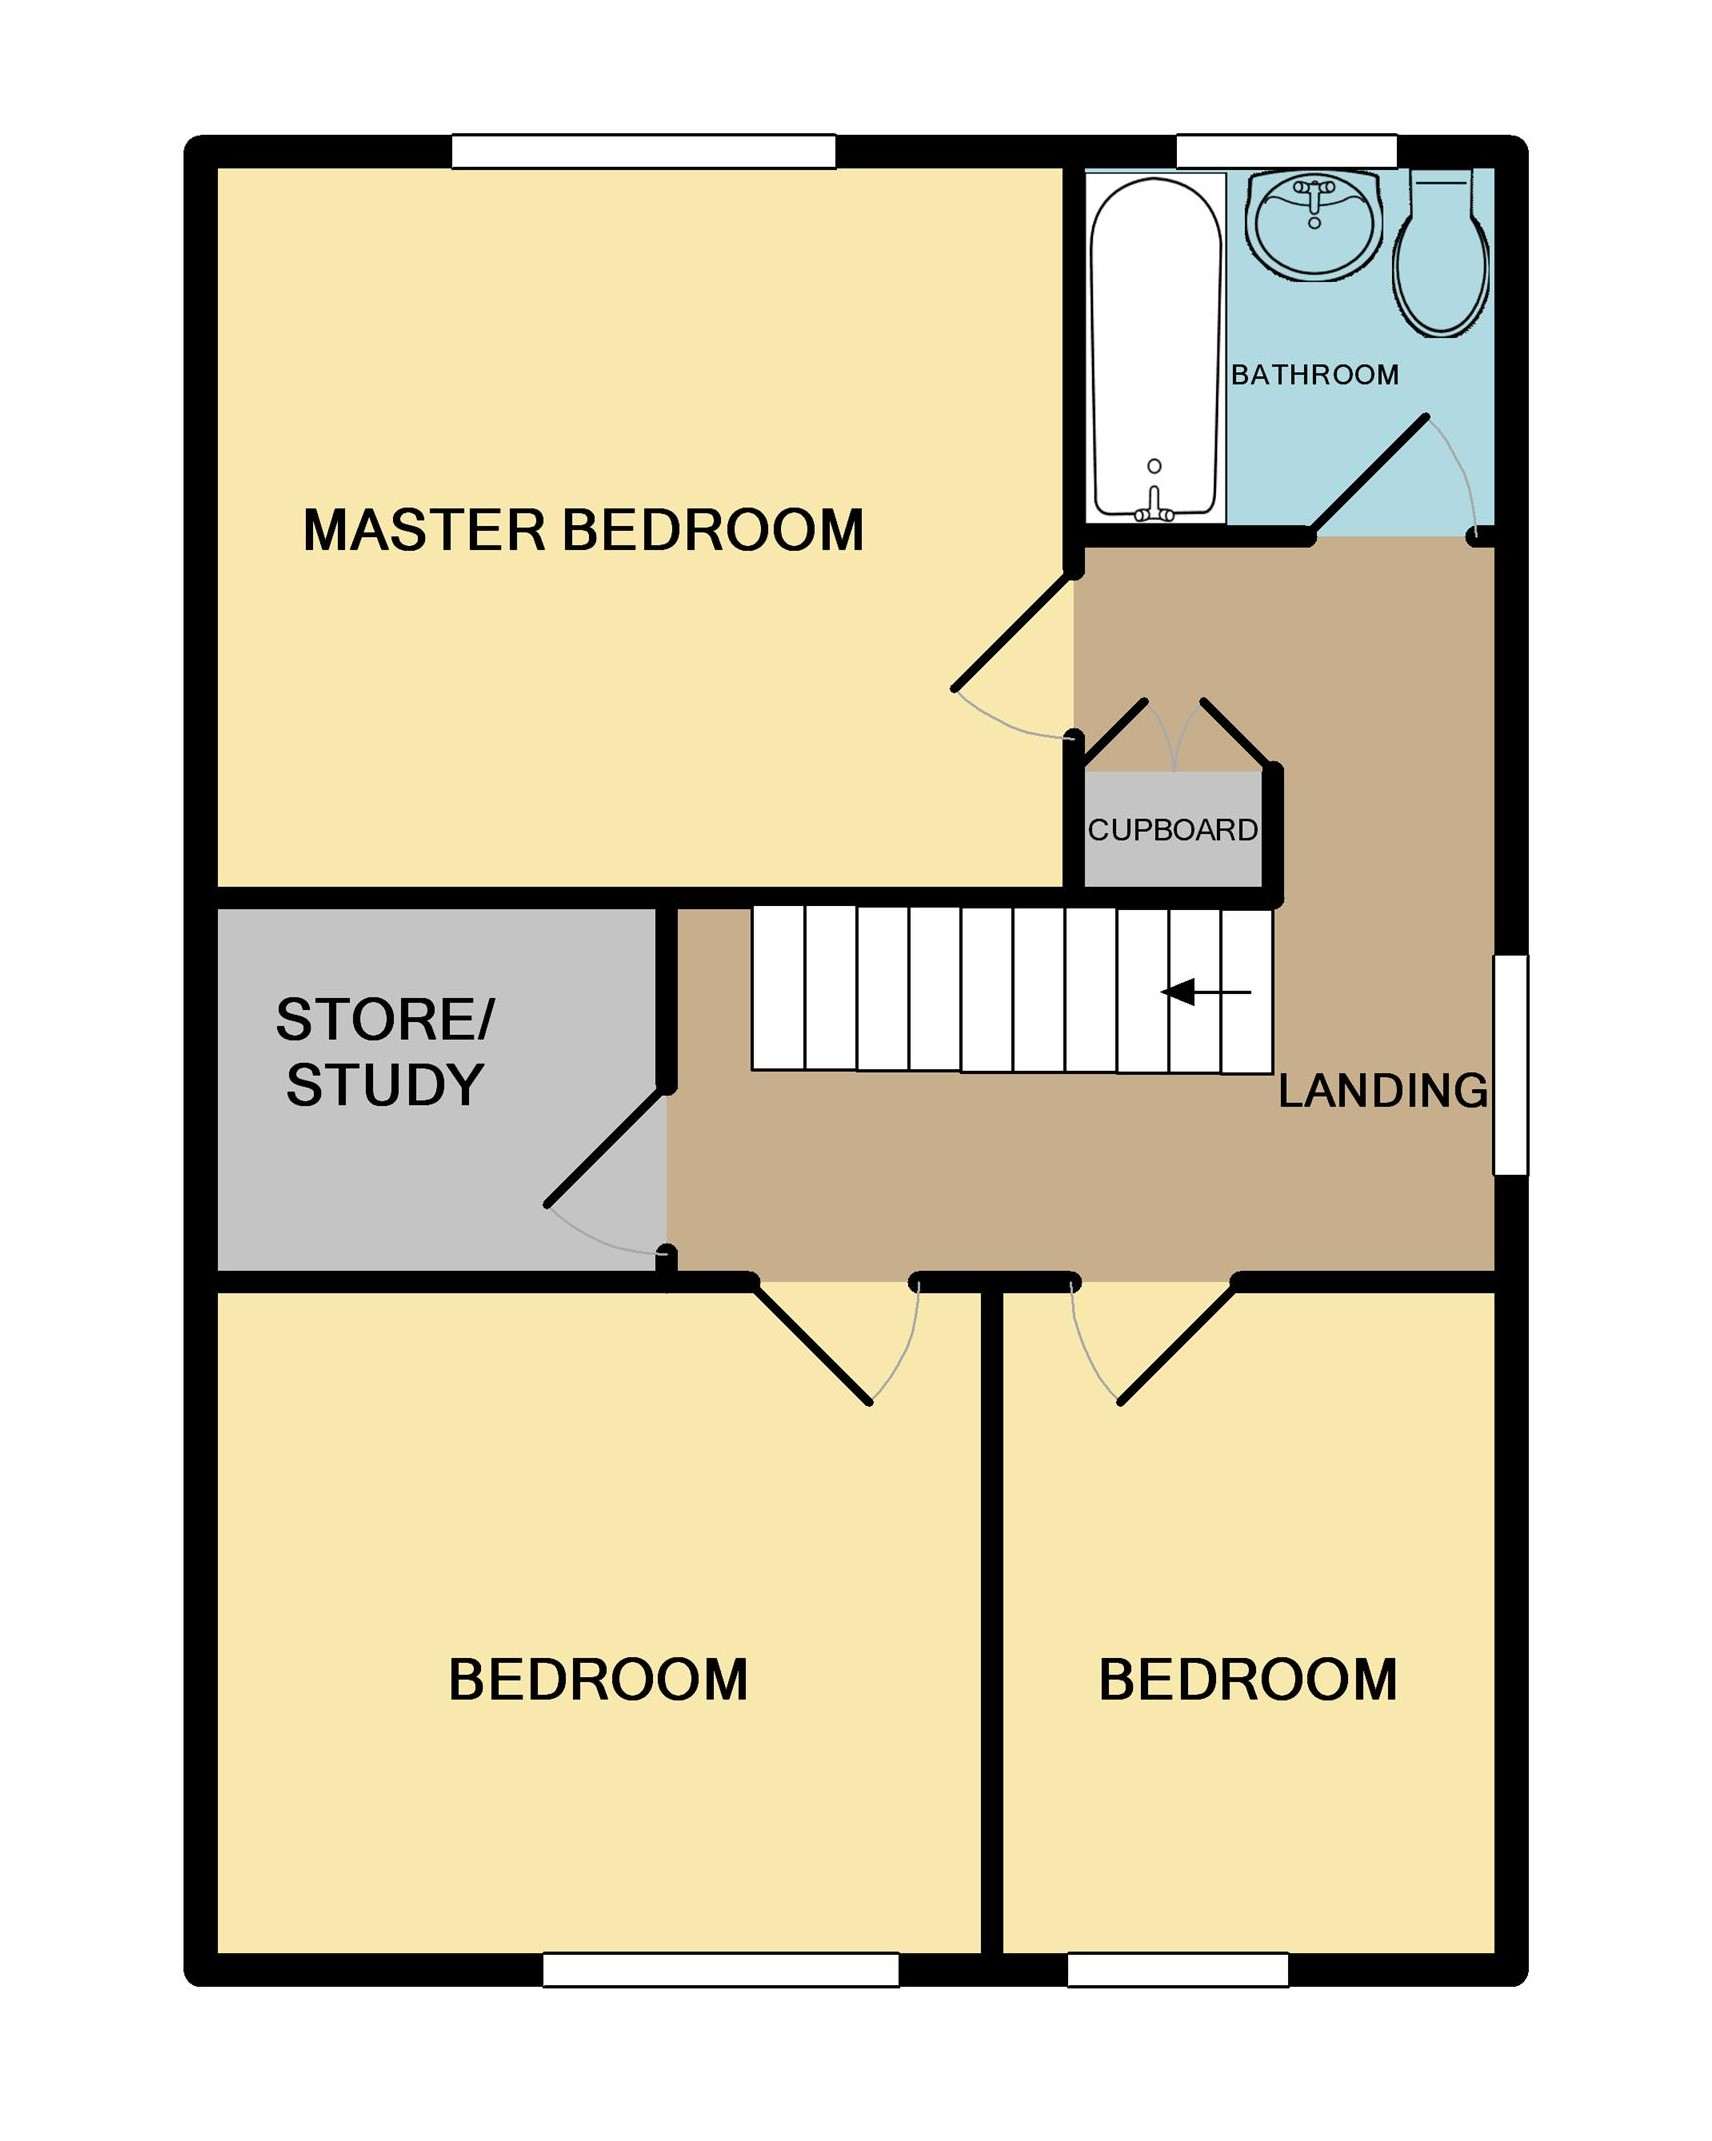wall: (183, 136, 224, 1987), (199, 887, 1284, 910), (1501, 134, 1530, 960), (1497, 1177, 1527, 1977), (977, 1277, 999, 1980), (213, 1268, 749, 1298), (830, 134, 1177, 175), (183, 1951, 547, 1987), (1060, 136, 1090, 575), (194, 129, 451, 168), (1067, 520, 1324, 550), (1226, 1270, 1490, 1294), (1294, 1954, 1523, 1980), (910, 1268, 1087, 1298), (900, 1958, 1064, 1987), (1258, 760, 1287, 920), (1405, 129, 1520, 168), (1060, 730, 1087, 898), (1467, 524, 1509, 550)
